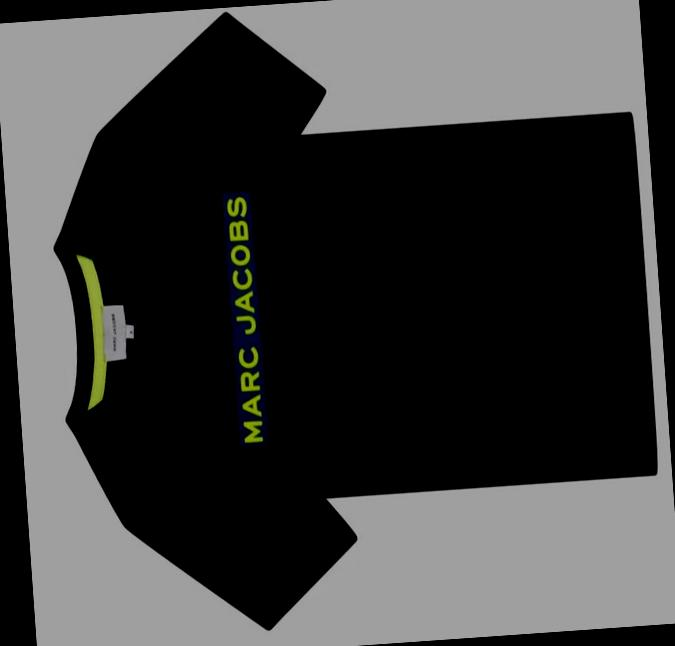MARC-JACOBS: (226, 195, 262, 442)
